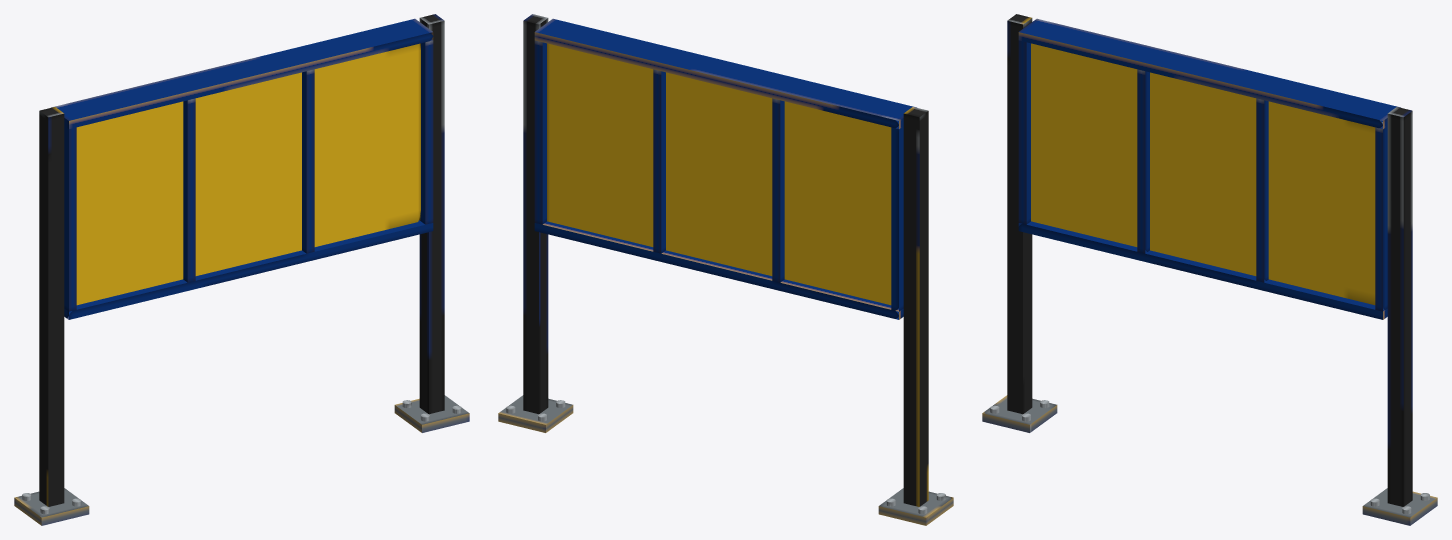
File: nl_schedule_sign.obj
The picture shows the model from 3 angles, left to right: view 1: azimuth 30°, elevation 25°; view 2: azimuth 150°, elevation 25°; view 3: azimuth 330°, elevation 25°; orthographic projection.
Parts seen in each view (by area): view 1: sign_back, pole_right, signedge_top, pole_left, signedge_bottom, signedge_left, signedge_right, signedge_midright, signedge_midleft, foot_left, foot_right; view 2: sign_front, pole_right, signedge_top, pole_left, signedge_bottom, signedge_right, signedge_left, signedge_midright, signedge_midleft, foot_left, foot_right; view 3: sign_back, pole_left, signedge_top, pole_right, signedge_bottom, signedge_left, signedge_right, signedge_midleft, signedge_midright, foot_left, foot_right.
Part boxes in pixels (<box>): sign_back: <box>76,43,420,305</box>; pole_right: <box>39,107,64,506</box>; signedge_top: <box>51,18,433,128</box>; pole_left: <box>419,14,444,414</box>; signedge_bottom: <box>64,220,433,319</box>; signedge_left: <box>420,39,433,224</box>; signedge_right: <box>64,126,76,311</box>; signedge_midright: <box>302,69,314,253</box>; signedge_midleft: <box>183,98,195,282</box>; foot_left: <box>394,395,469,432</box>; foot_right: <box>14,488,89,525</box>; sign_front: <box>547,43,891,305</box>; pole_right: <box>903,107,928,506</box>; signedge_top: <box>534,18,916,128</box>; pole_left: <box>523,14,548,414</box>; signedge_bottom: <box>534,221,903,319</box>; signedge_right: <box>891,122,903,311</box>; signedge_left: <box>534,40,546,224</box>; signedge_midright: <box>653,69,665,253</box>; signedge_midleft: <box>772,98,784,282</box>; foot_left: <box>498,395,573,432</box>; foot_right: <box>878,488,953,525</box>; sign_back: <box>1031,43,1375,305</box>; pole_left: <box>1387,107,1412,506</box>; signedge_top: <box>1018,18,1400,128</box>; pole_right: <box>1007,14,1032,414</box>; signedge_bottom: <box>1018,221,1387,319</box>; signedge_left: <box>1375,122,1387,311</box>; signedge_right: <box>1018,40,1030,224</box>; signedge_midleft: <box>1137,69,1149,253</box>; signedge_midright: <box>1256,98,1268,282</box>; foot_left: <box>1362,488,1437,525</box>; foot_right: <box>982,395,1057,432</box>.
Bounding box in the file's own units: 3.38 × 3 × 0.375.
1 material, 1 textured.
